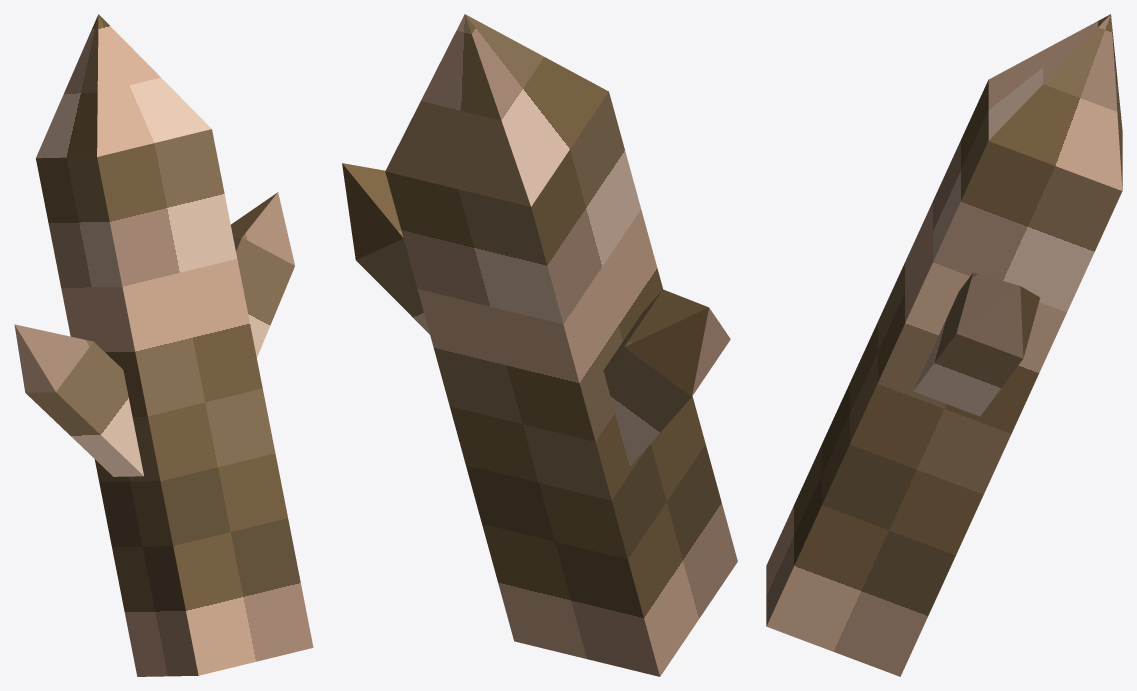
File: iron_2.obj
3 views of the same model, side by side, from view 1: azimuth 30°, elevation 25°; view 2: azimuth 150°, elevation 25°; view 3: azimuth 270°, elevation 25° (orthographic). The views are drawn at different scales.
Visible parts, largest first — view 1: 2; view 2: 2; view 3: 2.
Part boxes in pixels (<box>): 2: <box>14,14,313,676</box>; 2: <box>342,14,737,676</box>; 2: <box>766,14,1122,676</box>.
Bounding box in the file's own units: 0.3006 × 0.6013 × 0.3068.
